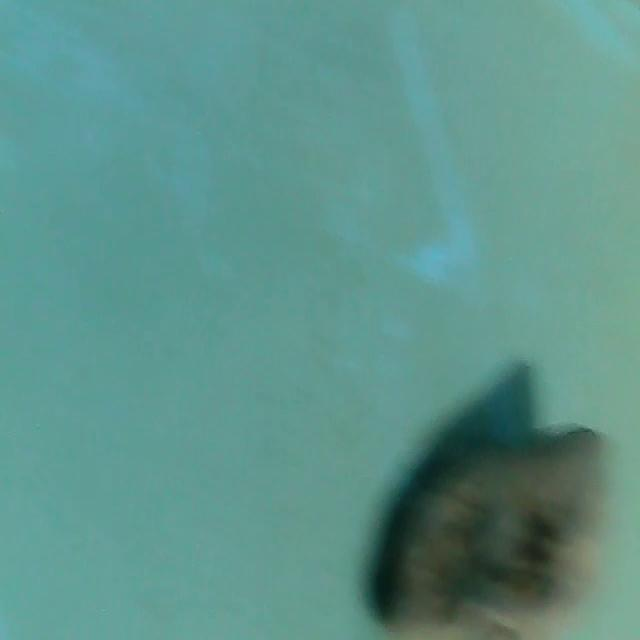rock: (368, 402, 618, 640)
